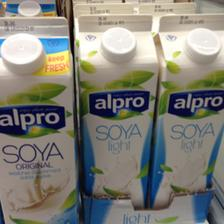Milch: (0, 16, 80, 223), (74, 14, 154, 212), (152, 13, 222, 223)
